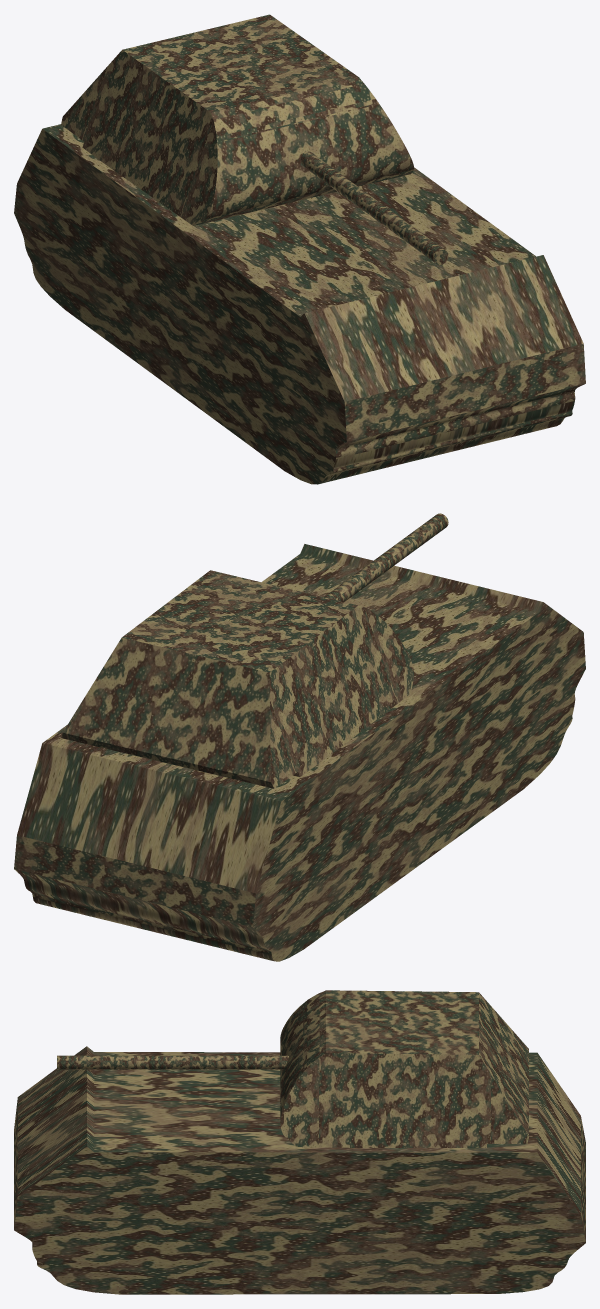
The model's file is tank.fbx.
3 views of the same model, one above another, from view 1: azimuth 30°, elevation 25°; view 2: azimuth 150°, elevation 25°; view 3: azimuth 270°, elevation 25° (orthographic). The views are drawn at different scales.
Visible parts, largest first — view 1: Line001, Line002, Cylinder001; view 2: Line001, Line002, Cylinder001; view 3: Line001, Line002, Cylinder001.
Boxes of the visible parts, box(x1,y1,x2,y2) form: Line001: box(14, 124, 585, 484); Line002: box(61, 14, 414, 225); Cylinder001: box(301, 151, 448, 264); Line001: box(14, 544, 585, 961); Line002: box(61, 570, 413, 788); Cylinder001: box(324, 513, 448, 601); Line001: box(14, 1046, 585, 1294); Line002: box(280, 990, 528, 1147); Cylinder001: box(57, 1055, 288, 1069).
Bounding box in the file's own units: 0.7493 × 0.7786 × 1.81.
